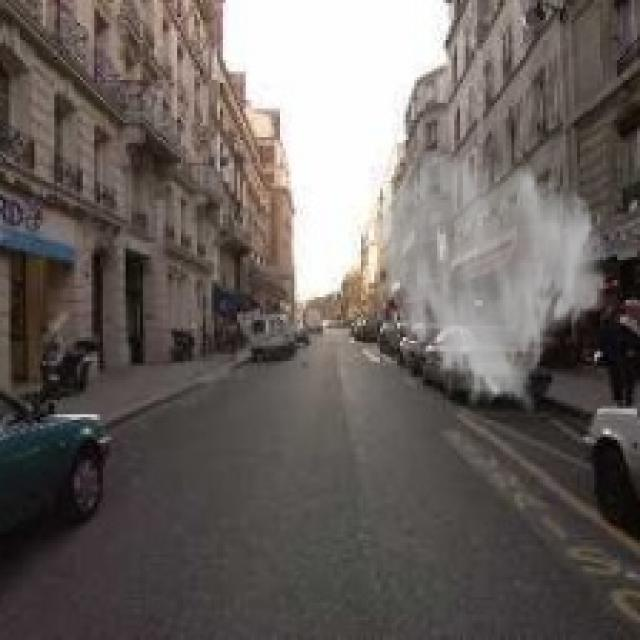smoke: (374, 143, 612, 417)
